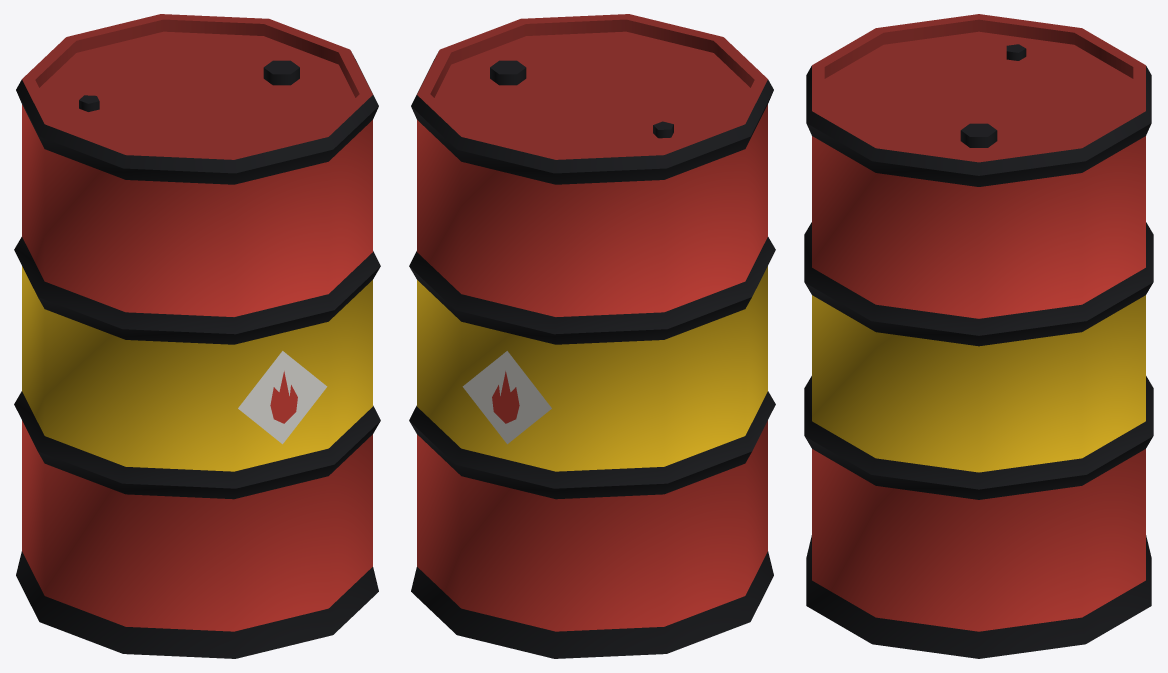
Rendered from prop_barrel_explosive.glb.
The picture shows the model from 3 angles, left to right: view 1: azimuth 30°, elevation 25°; view 2: azimuth 150°, elevation 25°; view 3: azimuth 270°, elevation 25°; orthographic projection.
Parts seen in each view (by area): view 1: prop_barrel_explosive__mesh; view 2: prop_barrel_explosive__mesh; view 3: prop_barrel_explosive__mesh.
Boxes of the visible parts, x1,y1,x2,y2 form: prop_barrel_explosive__mesh: (14,14,380,658); prop_barrel_explosive__mesh: (409,14,775,658); prop_barrel_explosive__mesh: (804,14,1153,658).
Bounding box in the file's own units: 0.606 × 0.9 × 0.5763.
1 material, 1 textured.
